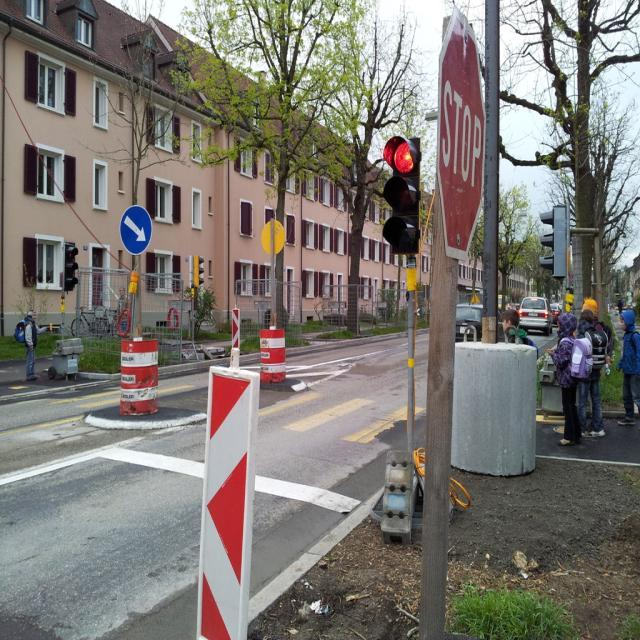off traffic light: (541, 205, 569, 280), (64, 241, 78, 292)
road_sign: (436, 5, 487, 262), (119, 205, 153, 255)
traffic light: (382, 136, 420, 254)
